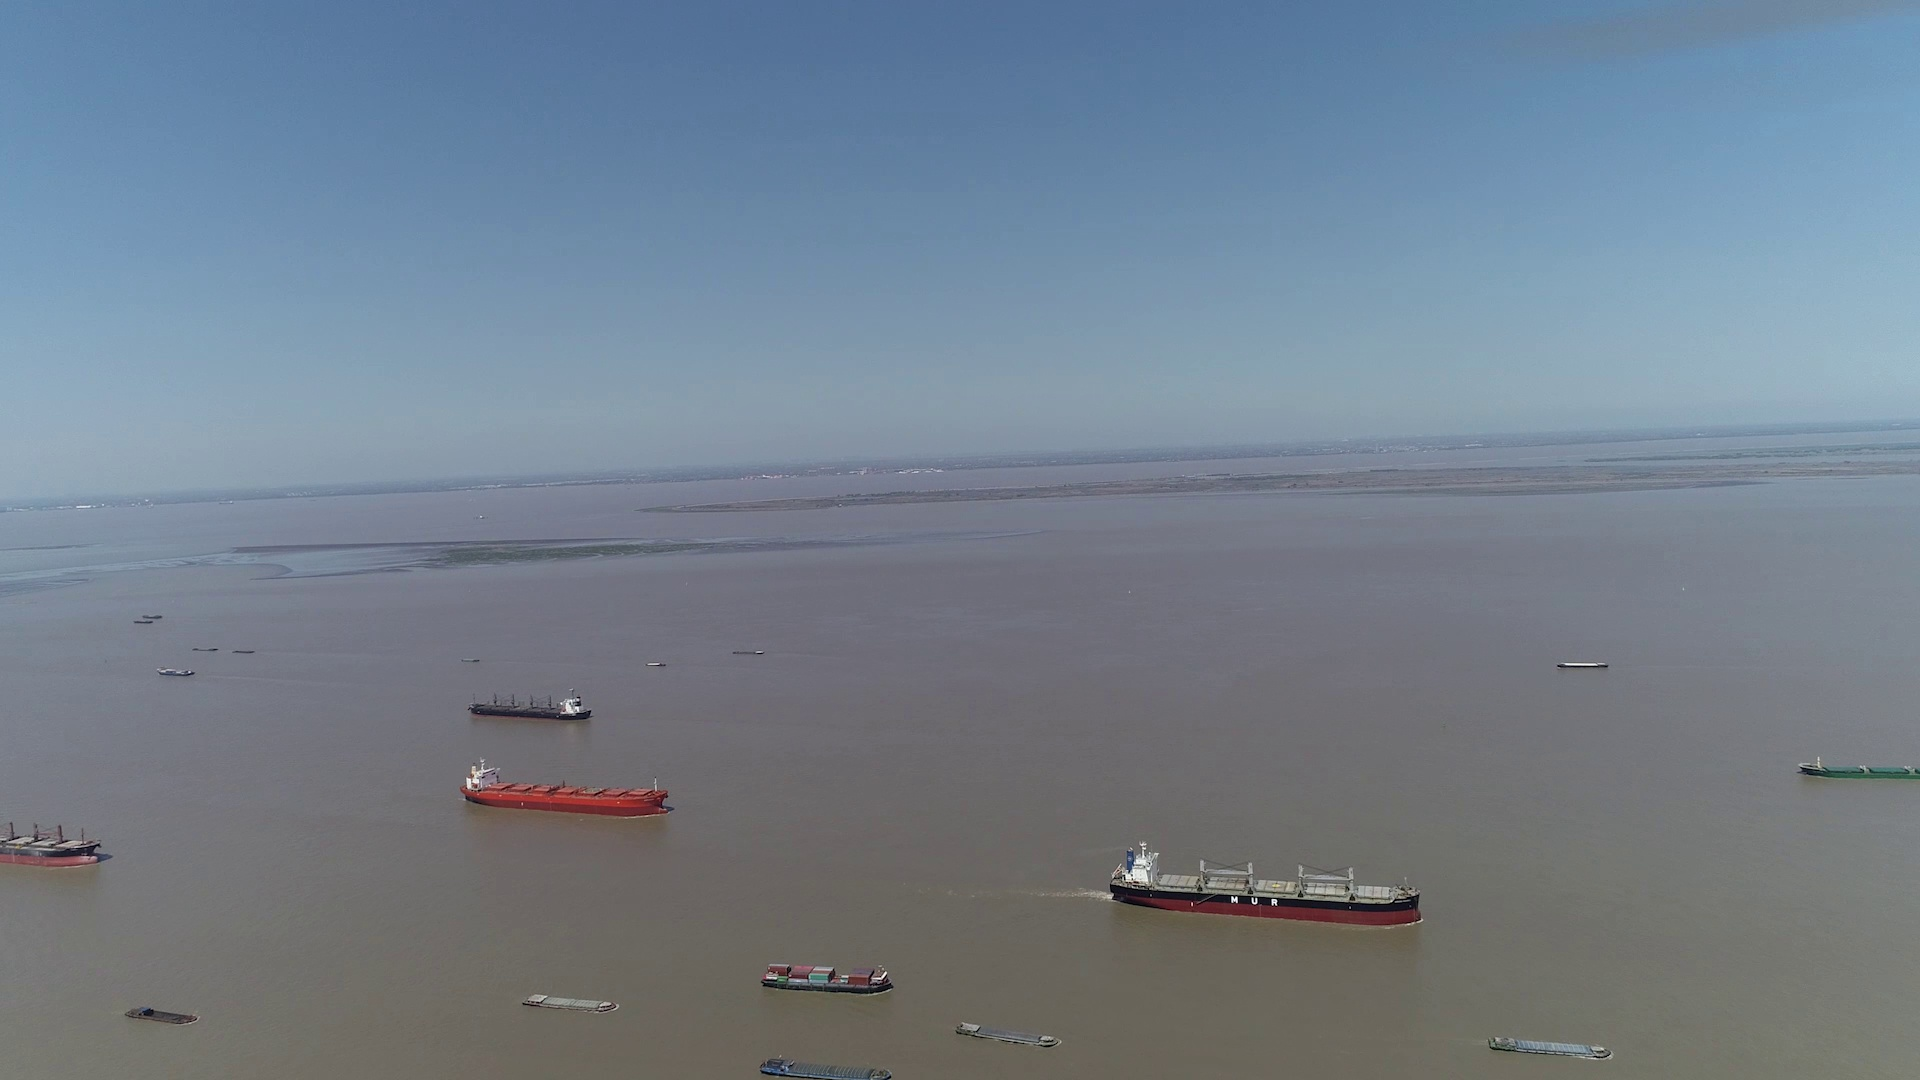ship: (1110, 841, 1424, 927), (463, 756, 669, 816), (3, 808, 104, 866), (760, 963, 895, 996), (468, 691, 591, 723), (1486, 1033, 1611, 1059), (758, 1058, 894, 1080), (1797, 756, 1920, 779), (953, 1021, 1059, 1047), (518, 993, 616, 1014), (125, 1007, 199, 1025), (1557, 661, 1607, 670), (156, 666, 196, 676)
